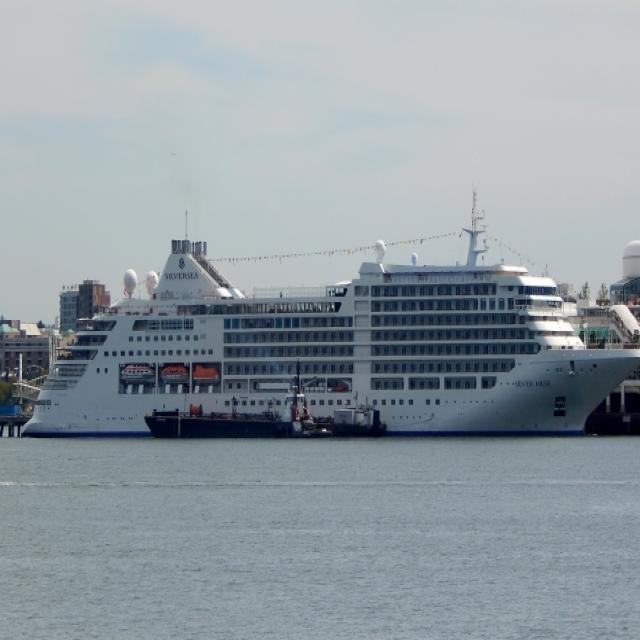cruises: (18, 212, 640, 452)
